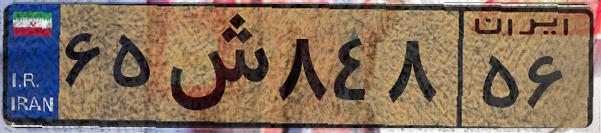4: (330, 28, 385, 110)
5: (475, 38, 525, 113), (110, 28, 158, 98)
6: (57, 26, 110, 100), (525, 38, 570, 115)
8: (270, 28, 330, 110), (385, 28, 445, 110)
ش: (158, 12, 270, 120)
